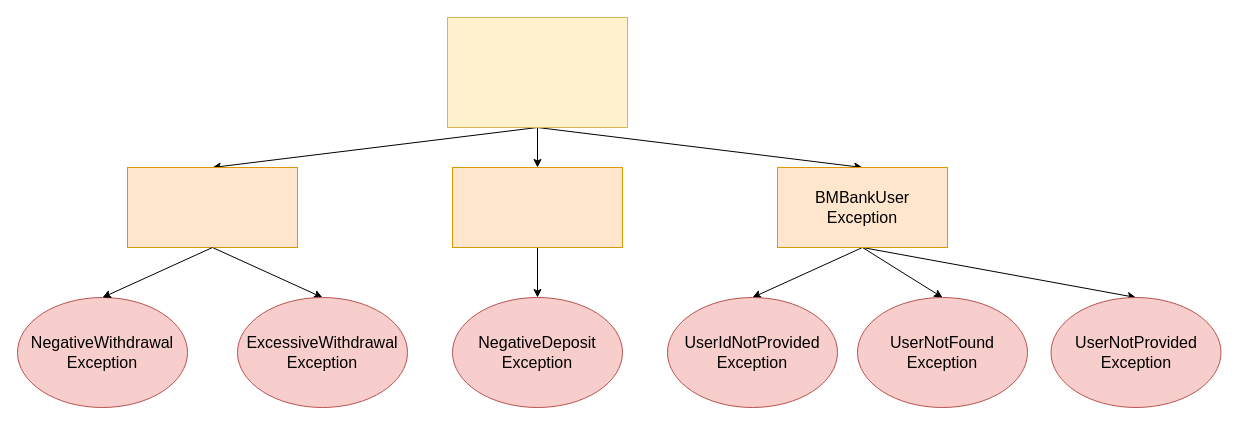
The diagram is 1239 pixels wide and 425 high, and some of its shapes have lost their labels. The centre of each missing label's shape, as x and y in pixels:
"BMBankDeposit Exception" goes at point 537,207.
"BMBankException" goes at point 537,72.
"BMBankWithdrawal Exception" goes at point 212,207.
